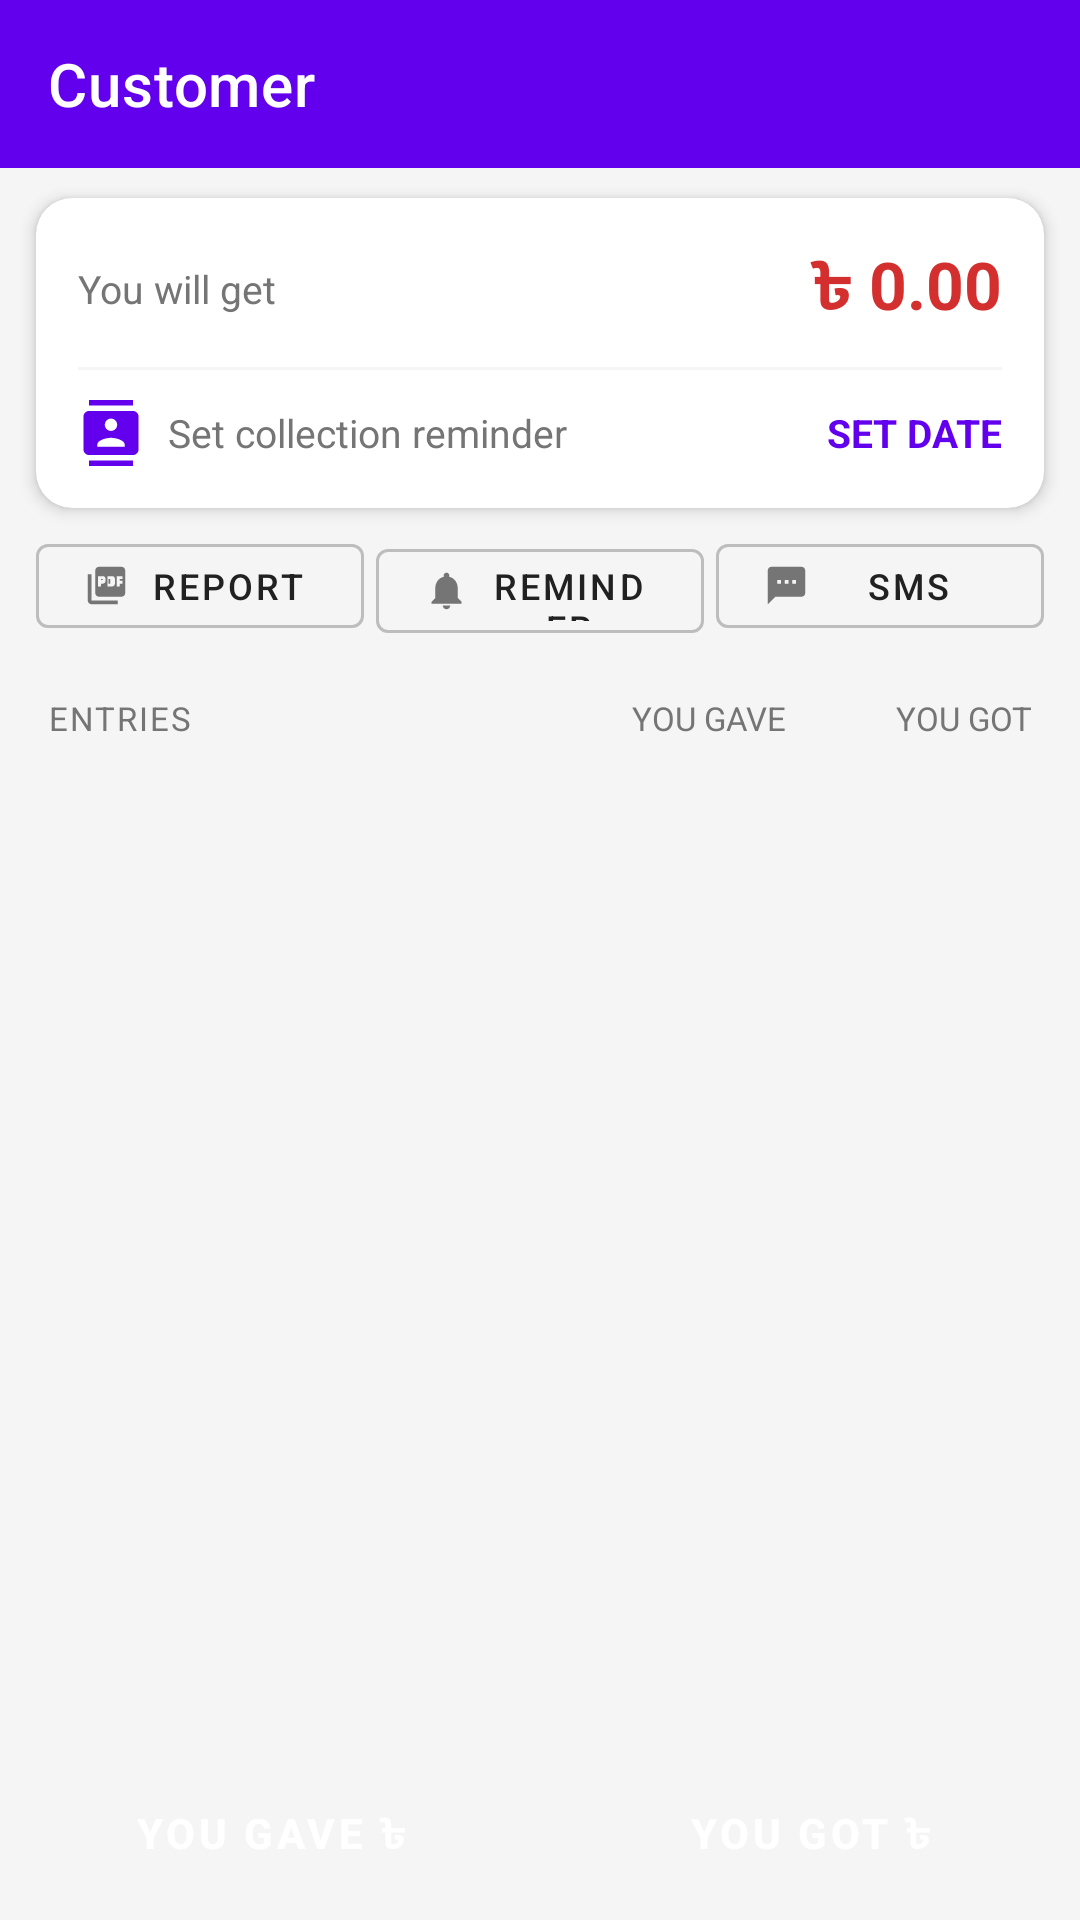

Named icons in this screenshot (1080px x 1920px) and their centers, [x,y]:
contact: [111,433]
